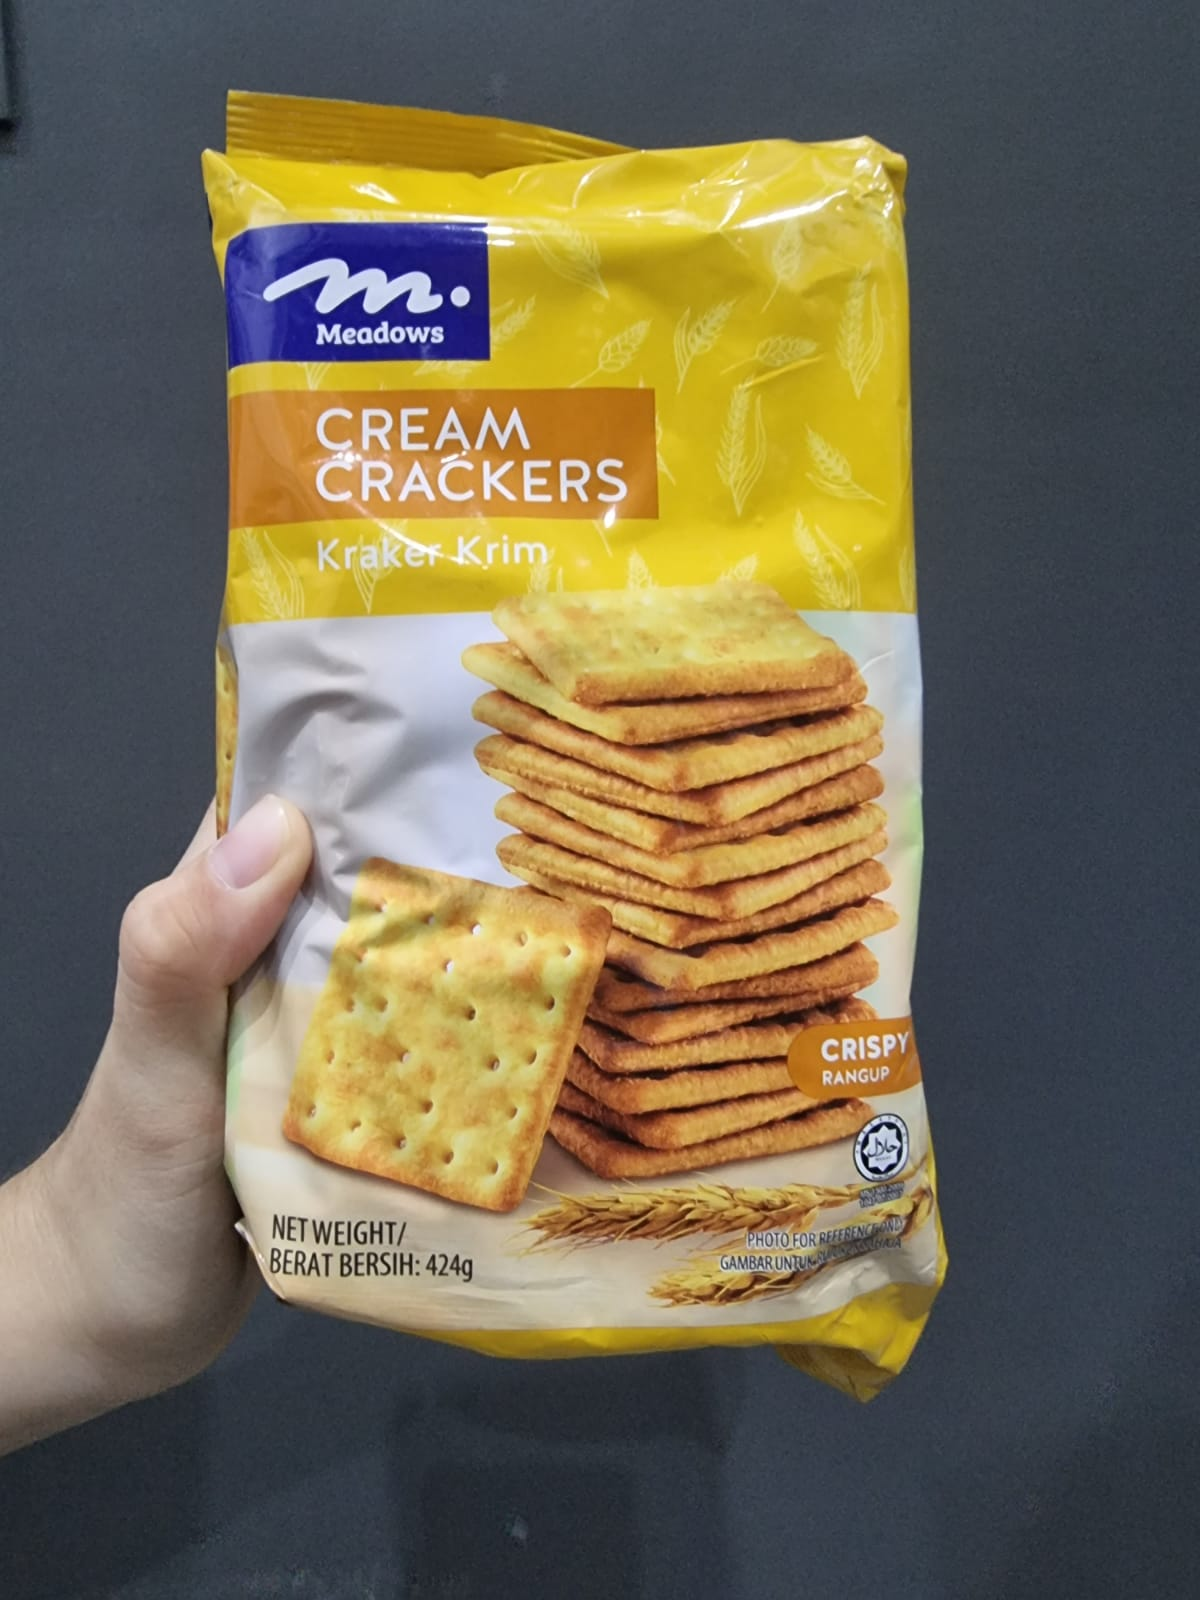Biscuits: (279, 248, 925, 1276)
